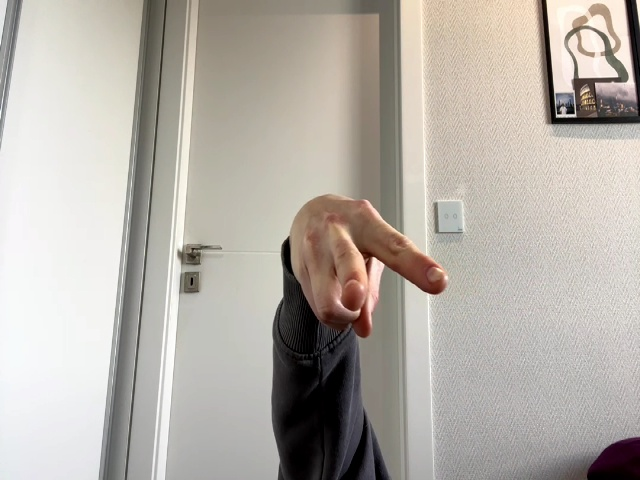U: (291, 194, 448, 338)
